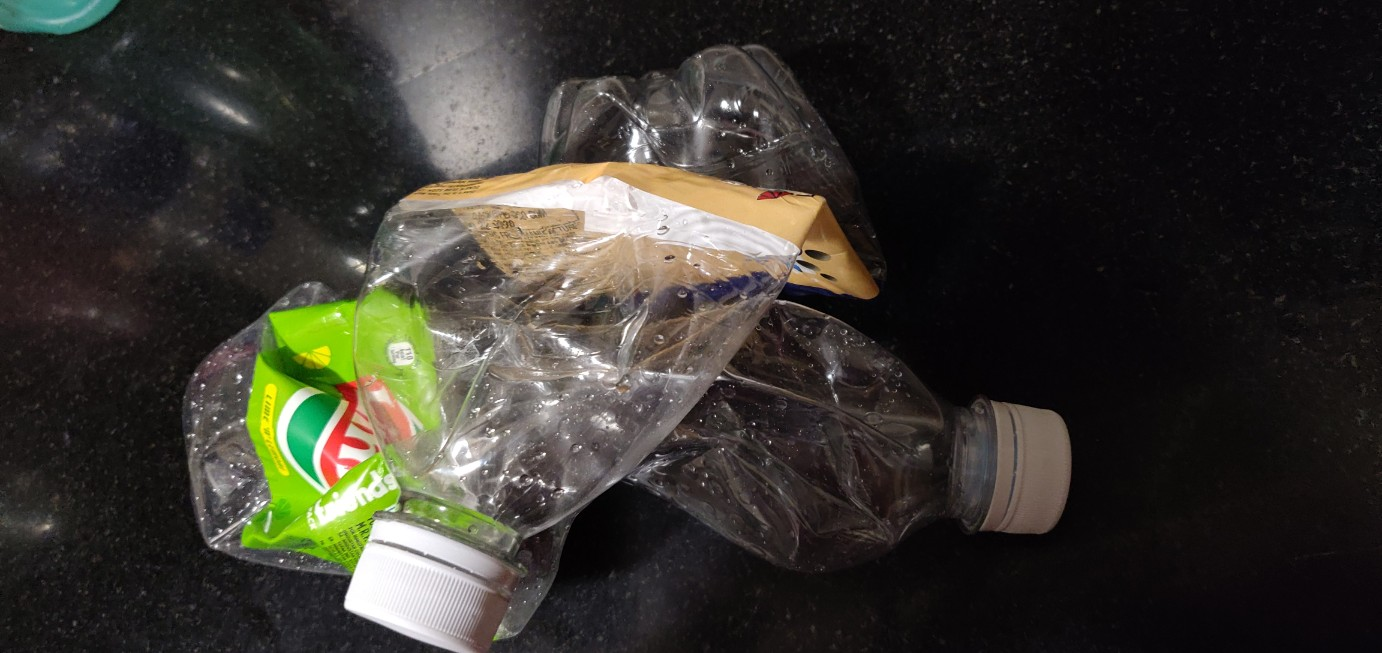Electronics: (140, 145, 1112, 598), (319, 30, 852, 653)
